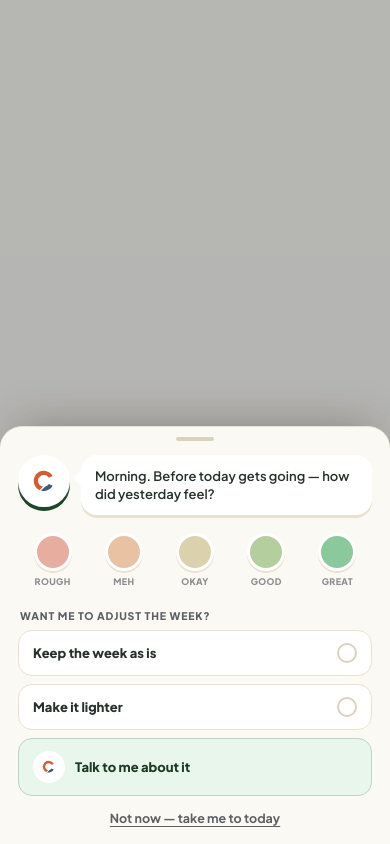
Scenario: DailyCheckIn › tapping a pick again clears it, and the button goes back to Not now
Click the radio button "Make it lighter": [78, 707] box [18,684,372,730]
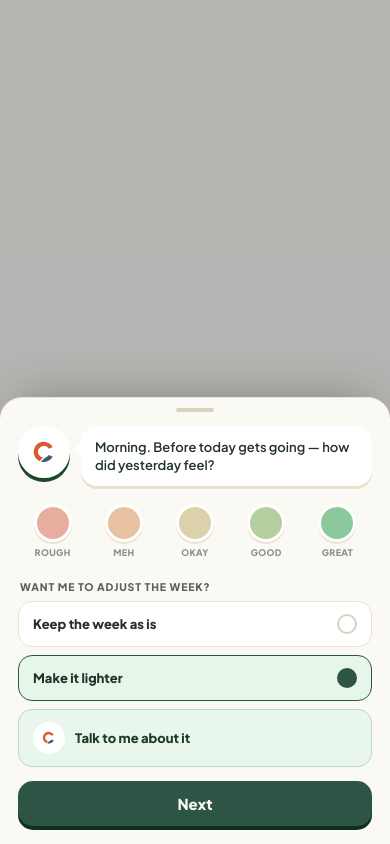
Expected: the button "Next" is shown, [18,781,372,826]
Click the radio button "Make it lighter": [78, 678] box [18,655,372,701]
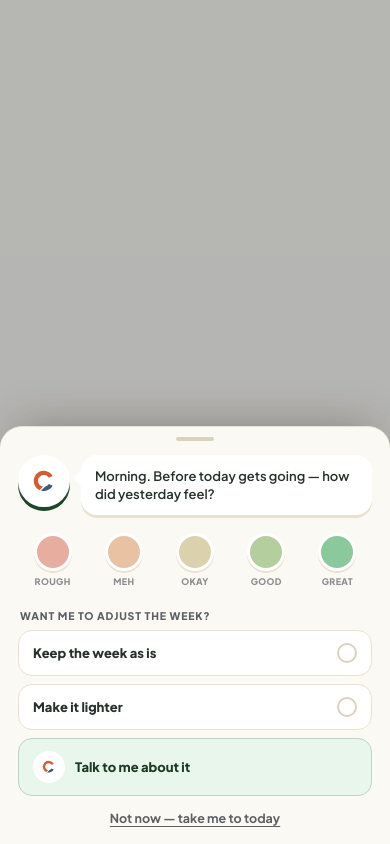
Expected: the button "Not now — take me to today" is shown, [18,810,372,826]
